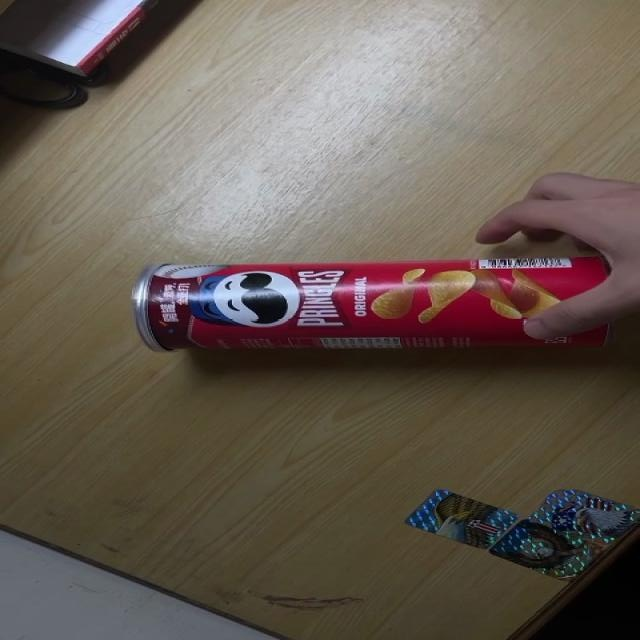Pringles: (129, 255, 622, 354)
